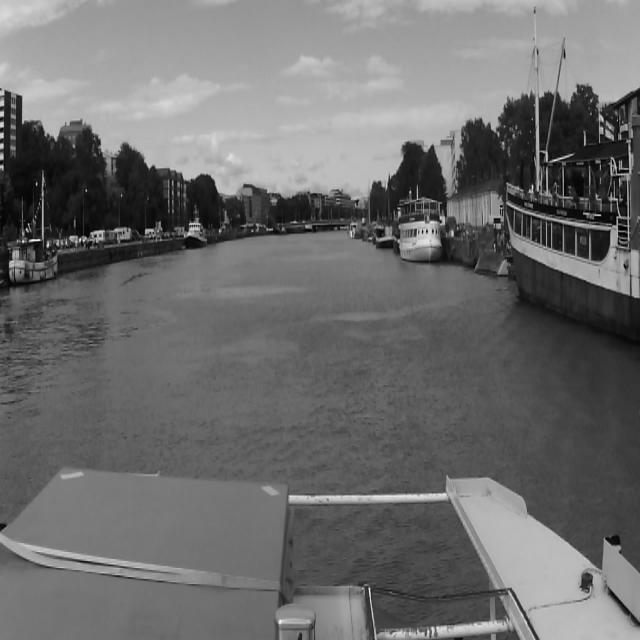ship: (504, 8, 640, 343), (10, 170, 58, 279), (397, 197, 443, 260), (184, 220, 206, 250), (374, 225, 393, 247)
